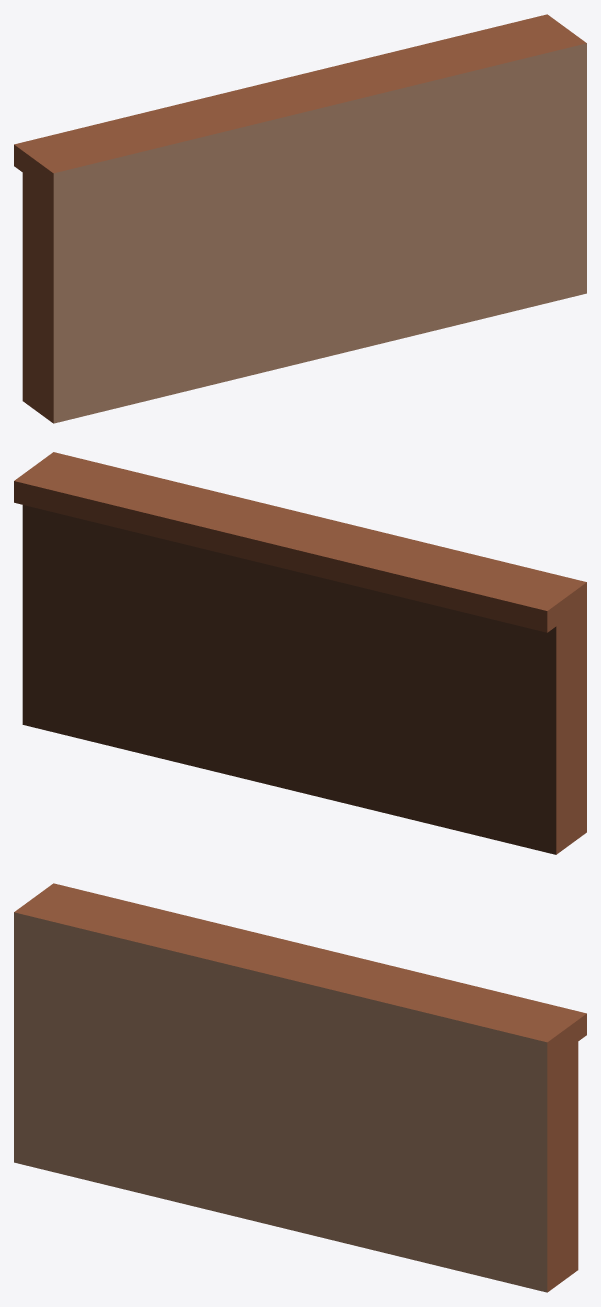
The model's file is wallBorder.fbx.
The picture shows the model from 3 angles, top to bottom: view 1: azimuth 30°, elevation 25°; view 2: azimuth 150°, elevation 25°; view 3: azimuth 330°, elevation 25°; orthographic projection.
Parts seen in each view (by area): view 1: wallBorder; view 2: wallBorder; view 3: wallBorder.
Boxes of the visible parts, box(x1,y1,x2,y2) form: wallBorder: box(14, 14, 586, 423); wallBorder: box(14, 452, 586, 854); wallBorder: box(14, 883, 586, 1292).
Size of the model in its own units: 20 by 8.97 by 2.57.
